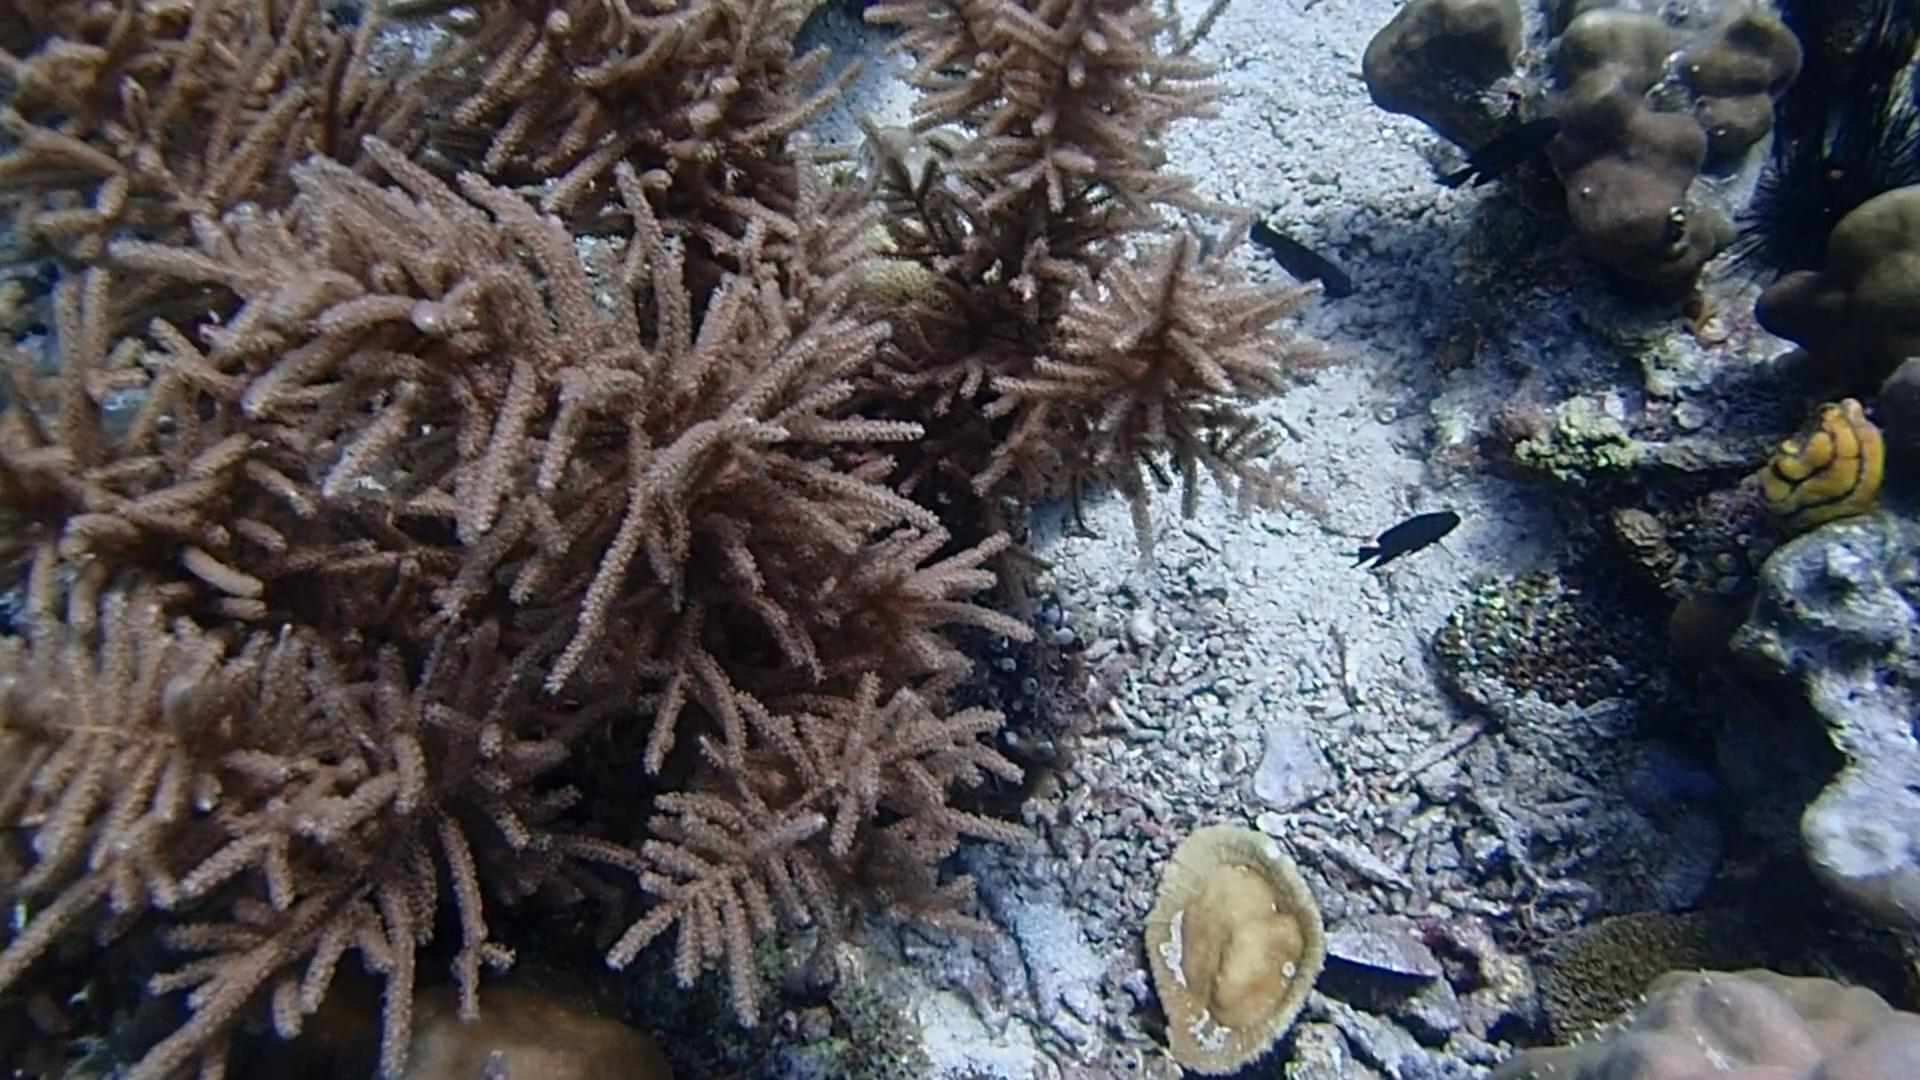Dark Fish: (1228, 204, 1366, 309), (1422, 109, 1565, 196), (1349, 498, 1464, 576)
